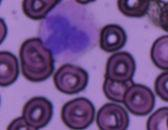N: (38, 1, 100, 60)
